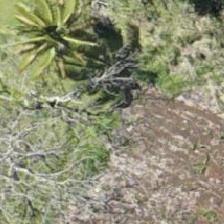coconut_tree: (7, 0, 97, 75)
